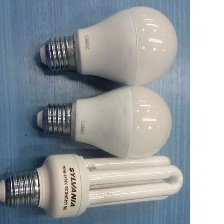light_bulb: (0, 150, 183, 221), (36, 2, 183, 90), (34, 84, 177, 161)
